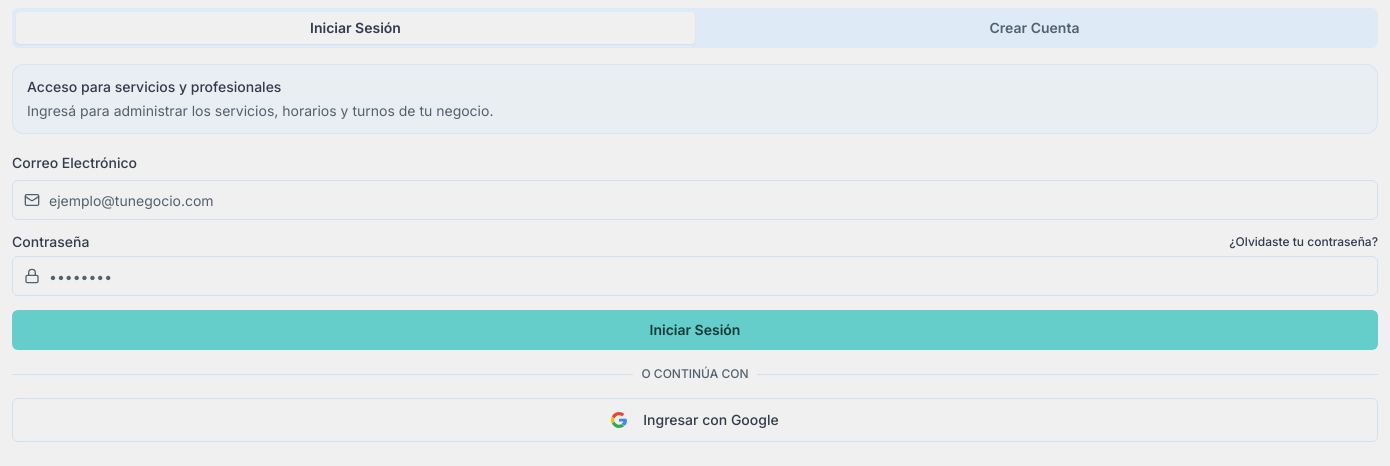
Test case: AuthForm › collects the missing profile data and verifies an unverified authenticated identity
This screenshot has width=1390, height=466.
Type "pending@example.com" into the field labelled "Correo Electrónico".
click(695, 200); type("pending@example.com")  # box 12,180 -> 1378,220
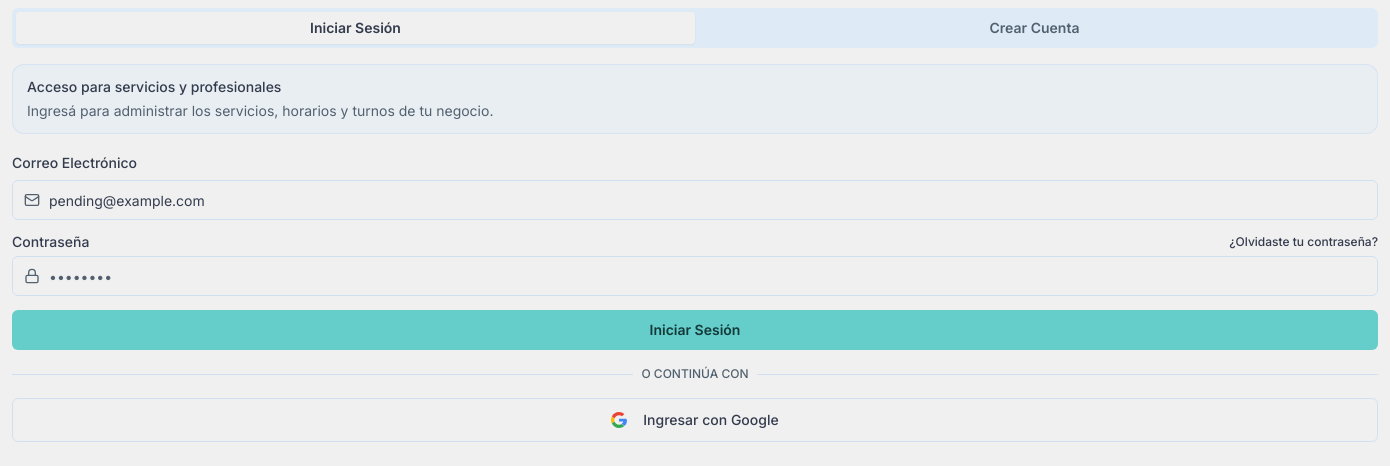
Type "secret123" into the password field labelled "Contraseña".
click(695, 276); type("secret123")  # box 12,256 -> 1378,296
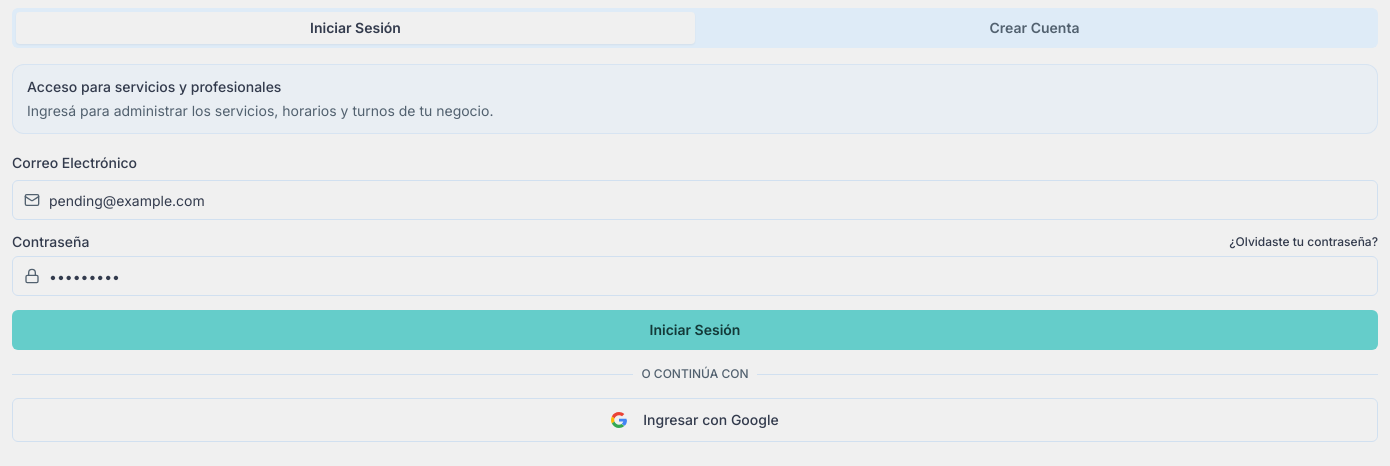
Click the button "Iniciar Sesión".
click(695, 330)  # box 12,310 -> 1378,350
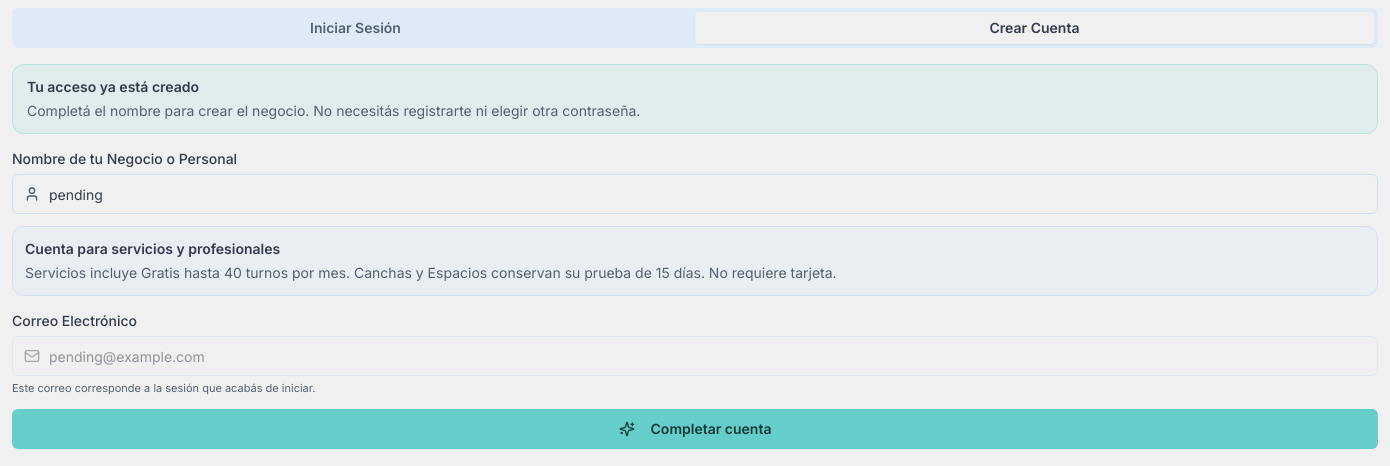
Check: the text "Tu acceso ya está creado" is shown, box 27,78 -> 199,95
Replace the text in the field labelled "Nombre de tu Negocio o Personal" with "Estudio Pendiente" at [695, 194], box 12,174 -> 1378,214
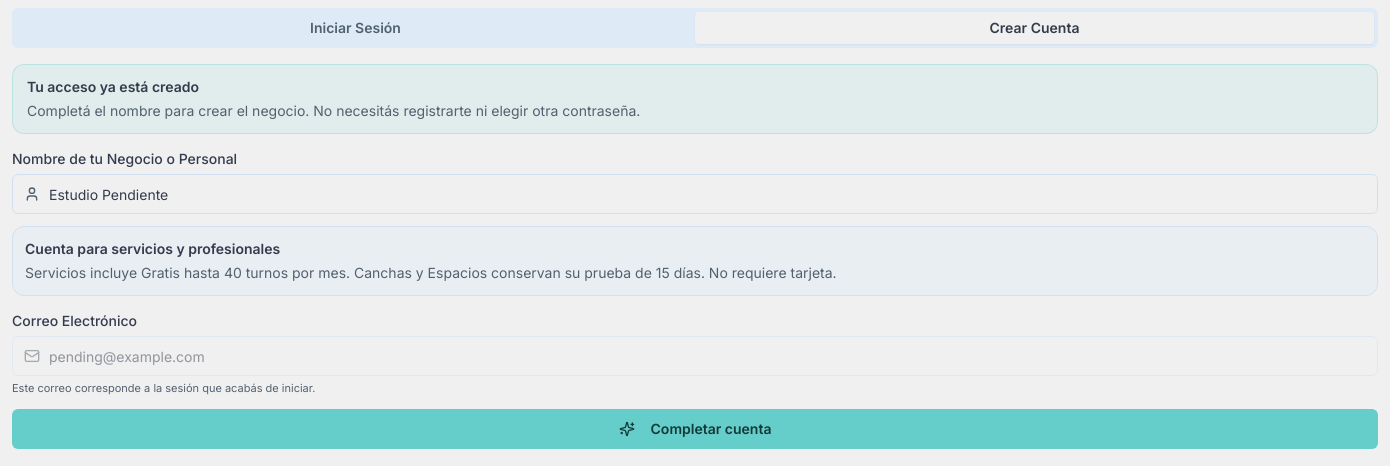
Click the button "Completar cuenta".
click(695, 428)  # box 12,408 -> 1378,448
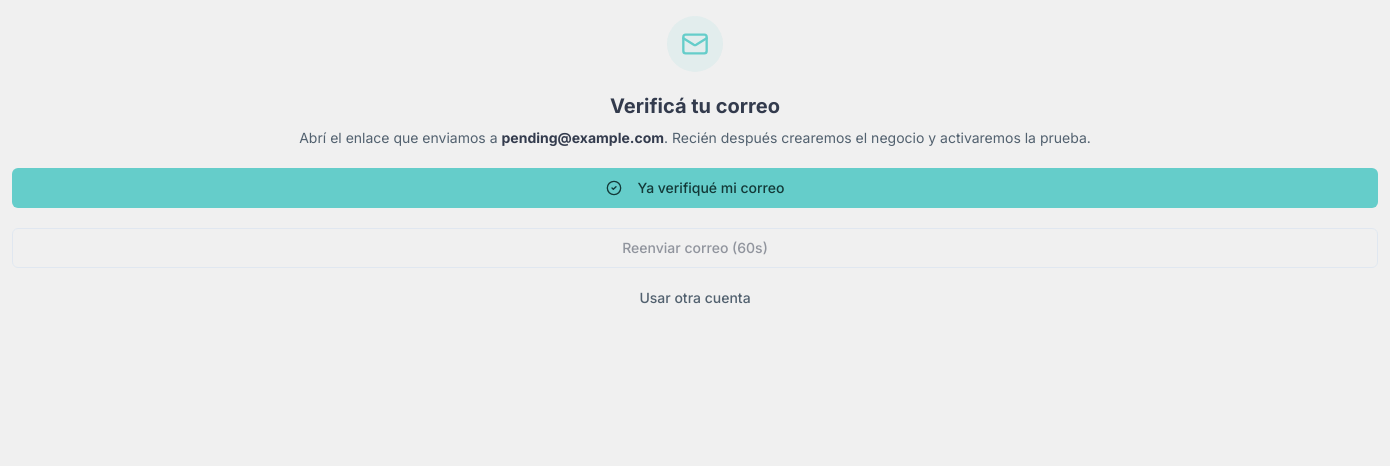
Check: the heading "Verificá tu correo" is shown, box 610,94 -> 780,118
